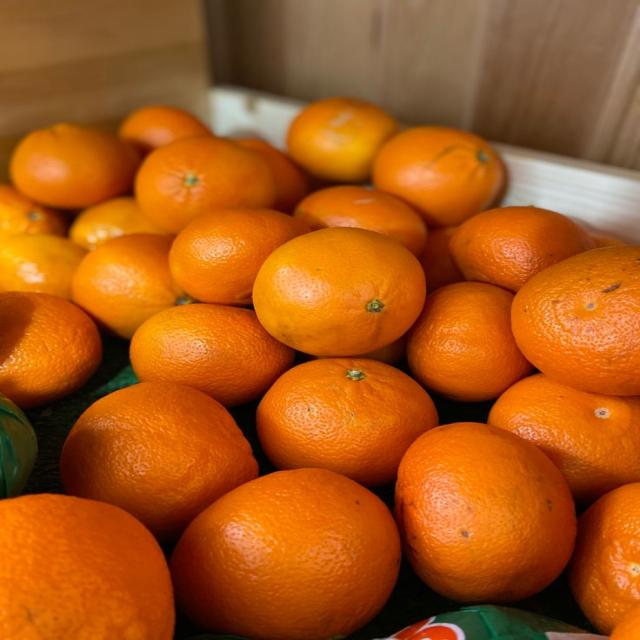orange: (171, 469, 400, 639), (396, 423, 576, 603), (60, 382, 257, 541), (0, 494, 174, 639), (257, 359, 438, 486), (254, 228, 426, 356), (488, 374, 639, 502), (512, 247, 639, 395), (130, 304, 294, 406), (407, 282, 533, 401), (135, 136, 275, 233), (170, 209, 310, 304), (374, 126, 505, 227), (73, 234, 191, 339), (450, 207, 594, 291), (0, 291, 101, 408), (10, 124, 139, 208), (568, 483, 639, 634), (287, 98, 398, 182), (294, 186, 426, 255), (0, 234, 86, 299), (236, 139, 310, 213), (69, 197, 166, 250), (119, 106, 211, 152), (0, 184, 68, 235), (419, 227, 464, 292), (359, 335, 406, 364), (610, 605, 639, 639), (591, 233, 627, 247)
